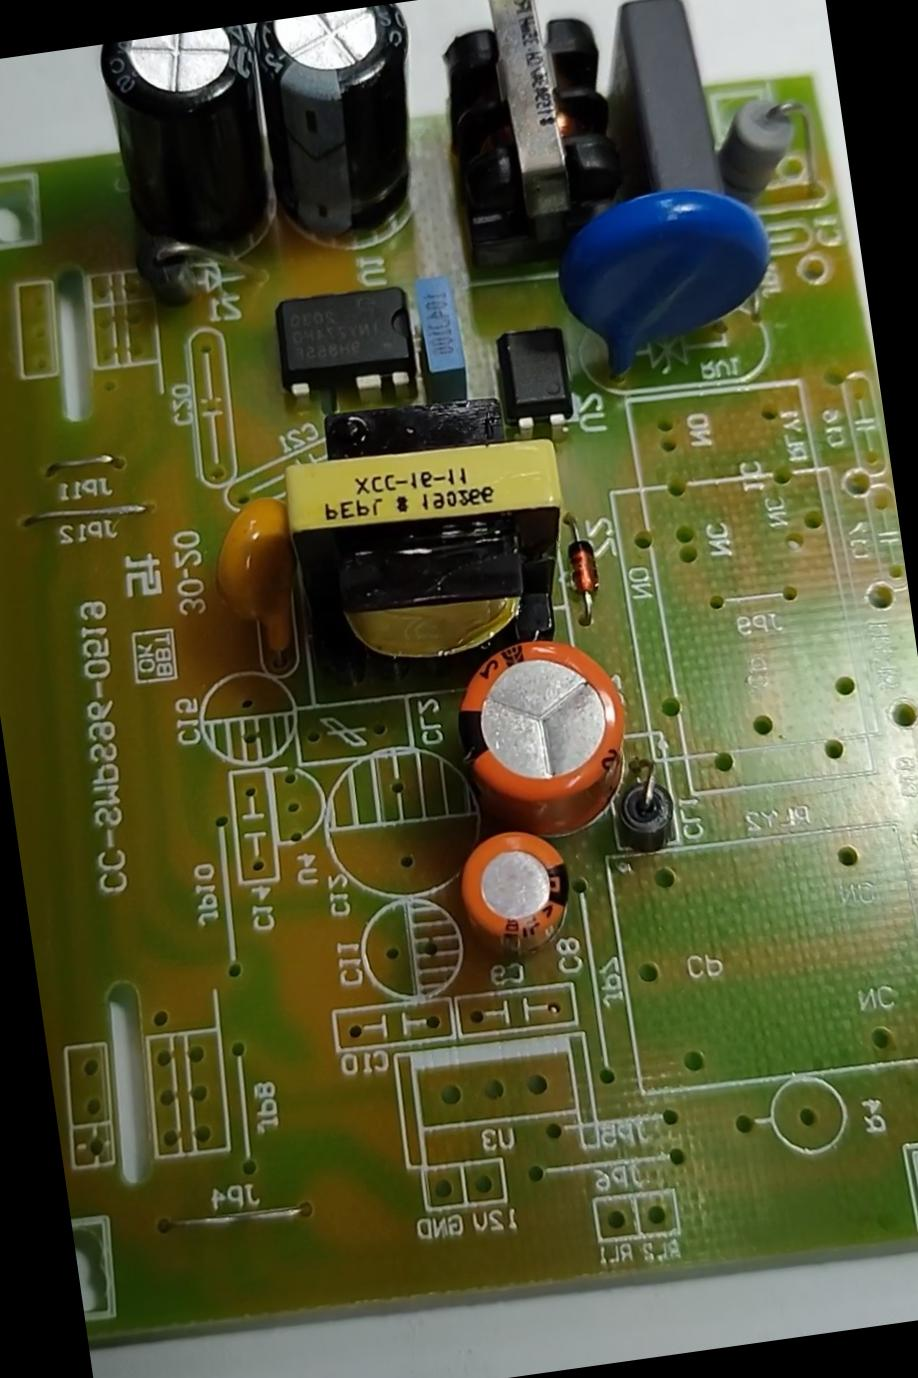Cap1: (432, 617, 659, 855)
Cap2: (433, 808, 591, 983)
Cap3: (239, 2, 440, 267)
Cap4: (80, 20, 317, 321)
MOSFET: (257, 277, 435, 429)
Mov: (521, 167, 796, 421)
Resistor: (705, 83, 820, 218)
Transformer: (258, 379, 595, 722), (440, 0, 637, 307)
